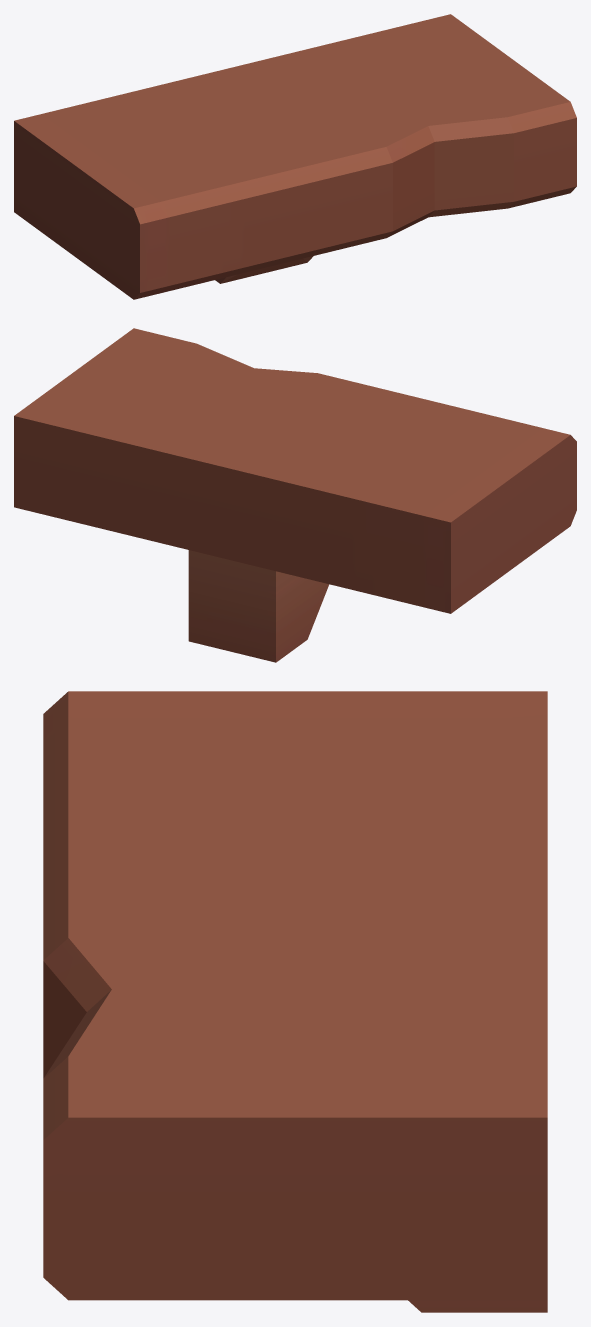
Rendered from kaykit-dungeon-remastered-shelf-small-gltf.glb.
3 views of the same model, one above another, from view 1: azimuth 30°, elevation 25°; view 2: azimuth 150°, elevation 25°; view 3: azimuth 270°, elevation 25° (orthographic). The views are drawn at different scales.
Parts seen in each view (by area): view 1: shelf_small; view 2: shelf_small; view 3: shelf_small.
Boxes of the visible parts, <box> form: shelf_small: <box>14,14,576,299</box>; shelf_small: <box>14,328,576,662</box>; shelf_small: <box>43,691,547,1312</box>.
Bounding box in the file's own units: 1 × 0.3999 × 0.5001.
Materials: 1 (1 with a texture image).
